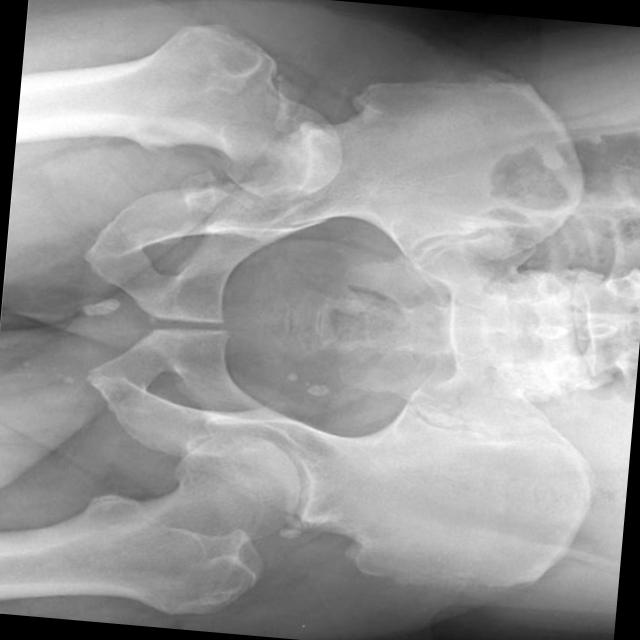normal-left: (0, 433, 299, 613)
right-dislocation: (14, 26, 341, 197)
